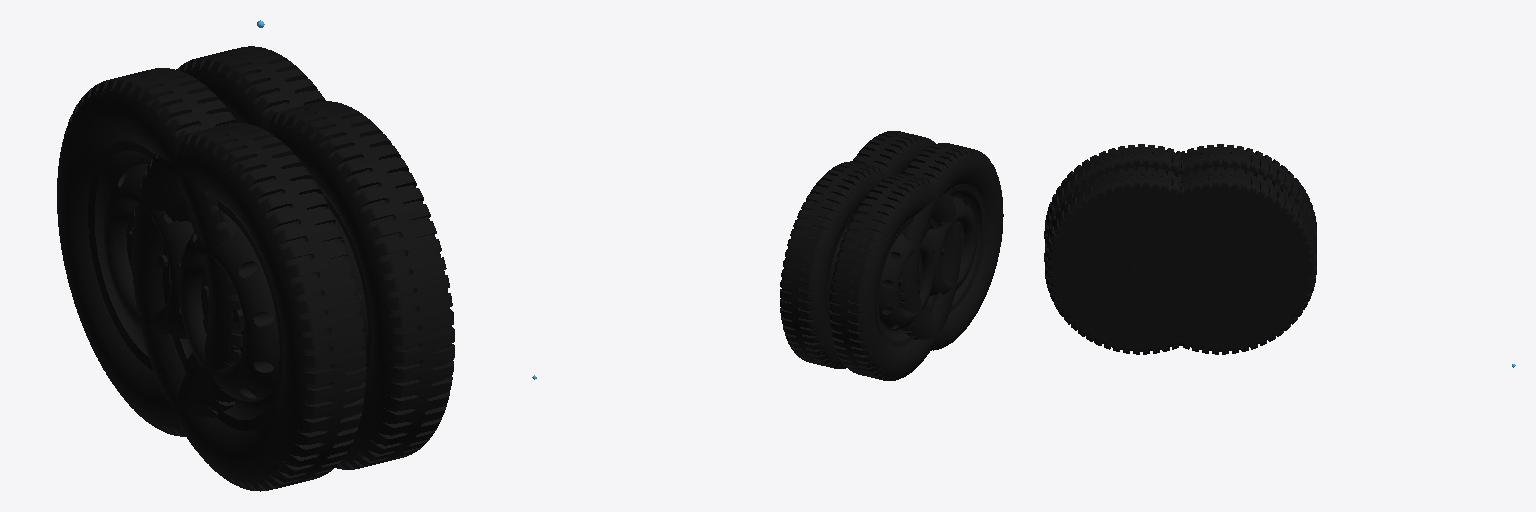
URDF robot description (pioneer3at):
<?xml version="1.0" ?>
<!-- =================================================================================== -->
<!-- |    This document was autogenerated by xacro from pioneer3at.urdf.xacro          | -->
<!-- |    EDITING THIS FILE BY HAND IS NOT RECOMMENDED                                 | -->
<!-- =================================================================================== -->
<robot name="pioneer3at" xmlns:controller="http://playerstage.sourceforge.net/gazebo/xmlschema/#controller" xmlns:interface="http://playerstage.sourceforge.net/gazebo/xmlschema/#interface" xmlns:sensor="http://playerstage.sourceforge.net/gazebo/xmlschema/#sensor" xmlns:xacro="http://ros.org/wiki/xacro">
  <!-- Chassis -->
  <link name="base_link">
    <!--  For pointers on inertial and gazebo-related parameters see
		       * http://wiki.ros.org/urdf/Tutorials/Adding%20Physical%20and%20Collision%20Properties%20to%20a%20URDF%20Model
                       * http://answers.gazebosim.org/question/4372/the-inertia-matrix-explained/
		       * http://gazebosim.org/tutorials?tut=inertia&cat=build_robot, and 
                       * http://gazebosim.org/tutorials/?tut=ros_urdf
                       * http://en.wikipedia.org/wiki/List_of_moment_of_inertia_tensors  
                -->
    <inertial>
      <mass value="26.5"/>
      <!-- P3AT 18.6kg plus three batteries @ 2.4kg each  minus four wheels @ 1.4 kg ea and top plate @ 0.1 kg-->
      <origin xyz=" -0.1 0 0.177"/>
      <inertia ixx="0.3338" ixy="0.0" ixz="0.0" iyy="0.4783" iyz="0.0" izz="0.3338"/>
    </inertial>
    <visual>
      <origin rpy="0 0 0" xyz="0 0 0.177"/>
      <geometry name="pioneer_geom">
        <mesh filename="package://amr_robots_description/meshes/p3at_meshes/chassis.stl"/>
      </geometry>
      <material name="ChassisRed">
        <color rgba="0.851 0.0 0.0 1.0"/>
      </material>
    </visual>
    <collision>
      <origin rpy="0 0 0" xyz="0 0 0.177"/>
      <geometry>
        <mesh filename="package://amr_robots_description/meshes/p3at_meshes/chassis.stl"/>
      </geometry>
    </collision>
  </link>
  <link name="hardener">
    <inertial>
      <mass value="4"/>
      <origin xyz="0 0 0"/>
      <inertia ixx="0.3338" ixy="0.0" ixz="0.0" iyy="0.4783" iyz="0.0" izz="0.3338"/>
    </inertial>
    <collision>
      <origin rpy="0 0 0" xyz="0 0 0"/>
      <geometry>
        <box size="0.05 0.05 0.01"/>
      </geometry>
    </collision>
  </link>
  <joint name="hardener_joint" type="fixed">
    <origin rpy="0 0 0" xyz="0.16 0 0.074"/>
    <parent link="base_link"/>
    <child link="hardener"/>
  </joint>
  <gazebo reference="base_link">
    <material value="Gazebo/Red"/>
  </gazebo>
  <!-- Top -->
  <link name="top_plate">
    <inertial>
      <mass value="0.1"/>
      <origin xyz="-0.025 0 -0.223"/>
      <inertia ixx="1.0" ixy="0.0" ixz="0.0" iyy="1.0" iyz="0.0" izz="1.0"/>
    </inertial>
    <visual>
      <origin rpy="0 0 0" xyz="0 0 0"/>
      <geometry name="pioneer_geom">
        <mesh filename="package://amr_robots_description/meshes/p3at_meshes/top.stl"/>
      </geometry>
      <material name="TopBlack">
        <color rgba="0.038 0.038 0.038 1.0"/>
      </material>
    </visual>
  </link>
  <gazebo reference="top_plate">
    <material>Gazebo/Black</material>
  </gazebo>
  <joint name="base_top_joint" type="fixed">
    <origin rpy="0 0 0" xyz="0.003 0 0.274"/>
    <parent link="base_link"/>
    <child link="top_plate"/>
  </joint>
  <!-- Front + Back Sonar -->
  <link name="front_sonar">
    <inertial>
      <mass value="0.1"/>
      <origin xyz="0 0 0"/>
      <inertia ixx="1.0" ixy="0.0" ixz="0.0" iyy="1.0" iyz="0.0" izz="1.0"/>
    </inertial>
    <visual>
      <origin rpy="0 0 0" xyz="0 0 0"/>
      <geometry name="pioneer_geom">
        <mesh filename="package://amr_robots_description/meshes/p3at_meshes/front_sonar.stl"/>
      </geometry>
      <material name="SonarYellow">
        <color rgba="0.715 0.583 0.210 1.0"/>
      </material>
    </visual>
  </link>
  <gazebo reference="front_sonar">
    <material value="Gazebo/Yellow"/>
  </gazebo>
  <joint name="base_front_joint" type="fixed">
    <origin rpy="0 0 0" xyz="0.193 0 0.25"/>
    <parent link="base_link"/>
    <child link="front_sonar"/>
  </joint>
  <link name="back_sonar">
    <inertial>
      <mass value="0.1"/>
      <origin xyz="0 0 0"/>
      <inertia ixx="1.0" ixy="0.0" ixz="0.0" iyy="1.0" iyz="0.0" izz="1.0"/>
    </inertial>
    <visual>
      <origin rpy="0 0 0" xyz="0 0 0"/>
      <geometry name="pioneer_geom">
        <mesh filename="package://amr_robots_description/meshes/p3at_meshes/back_sonar.stl"/>
      </geometry>
      <material name="SonarYellow">
        <color rgba="0.715 0.583 0.210 1.0"/>
      </material>
    </visual>
  </link>
  <gazebo reference="back_sonar">
    <material value="Gazebo/Yellow"/>
  </gazebo>
  <joint name="base_back_joint" type="fixed">
    <origin rpy="0 0 0" xyz="-0.187 0 0.247"/>
    <parent link="base_link"/>
    <child link="back_sonar"/>
  </joint>
  <!-- Front Axles + Wheels + Hubcaps -->
  <link name="p3at_front_left_axle">
    <inertial>
      <mass value="0.1"/>
      <origin xyz="0 0 0"/>
      <inertia ixx="1.0" ixy="0.0" ixz="0.0" iyy="1.0" iyz="0.0" izz="1.0"/>
    </inertial>
    <visual>
      <origin rpy="0 0 0" xyz="0 0 0"/>
      <geometry name="pioneer_geom">
        <mesh filename="package://amr_robots_description/meshes/p3at_meshes/axle.stl"/>
      </geometry>
      <material name="AxleGrey">
        <color rgba="0.5 0.5 0.5 1"/>
      </material>
    </visual>
  </link>
  <gazebo reference="p3at_front_left_axle">
    <material value="Gazebo/Grey"/>
  </gazebo>
  <joint name="base_front_left_axle_joint" type="fixed">
    <origin rpy="0 0 0" xyz="0.135 0.156 0.111"/>
    <parent link="base_link"/>
    <child link="p3at_front_left_axle"/>
  </joint>
  <link name="p3at_front_left_hub">
    <inertial>
      <mass value="0.1"/>
      <origin xyz="0 0 0"/>
      <inertia ixx="1.0" ixy="0.0" ixz="0.0" iyy="1.0" iyz="0.0" izz="1.0"/>
    </inertial>
    <visual>
      <origin rpy="0 0 0" xyz="0 0 0"/>
      <geometry name="pioneer_geom">
        <mesh filename="package://amr_robots_description/meshes/p3at_meshes/left_hubcap.stl"/>
      </geometry>
      <material name="HubcapYellow">
        <color rgba="1.0 0.811 0.151 1.0"/>
      </material>
    </visual>
  </link>
  <gazebo reference="p3at_front_left_hub">
    <material value="Gazebo/Yellow"/>
  </gazebo>
  <joint name="base_front_left_hub_joint" type="fixed">
    <origin rpy="0 0 0" xyz="0 0.041 0"/>
    <parent link="p3at_front_left_axle"/>
    <child link="p3at_front_left_hub"/>
  </joint>
  <link name="p3at_front_left_wheel">
    <inertial>
      <mass value="1.2"/>
      <!-- 1.4 kg - axle 0.1 kg - hub 0.1 kg -->
      <origin xyz="0 0 0"/>
      <inertia ixx="0.012411765597" ixy="0" ixz="0" iyy="0.015218160428" iyz="0" izz="0.011763977943"/>
    </inertial>
    <visual>
      <origin rpy="0 0 0" xyz="0 0 0"/>
      <geometry name="pioneer_geom">
        <mesh filename="package://amr_robots_description/meshes/p3at_meshes/wheel.stl"/>
      </geometry>
      <material name="WheelBlack">
        <color rgba="0.117 0.117 0.117 1"/>
      </material>
    </visual>
    <collision>
      <origin rpy="-1.57079635 0 0" xyz="0 0 0"/>
      <geometry>
        <!--mesh filename="package://amr_robots_description/meshes/p3at_meshes/wheel.stl"/-->
        <cylinder length="0.075" radius="0.111"/>
      </geometry>
    </collision>
  </link>
  <gazebo reference="p3at_front_left_wheel">
    <material value="Gazebo/Black"/>
  </gazebo>
  <joint name="p3at_front_left_wheel_joint" type="continuous">
    <axis xyz="0 1 0"/>
    <anchor xyz="0 0 0"/>
    <limit effort="100" velocity="100"/>
    <joint_properties damping="0.7"/>
    <origin rpy="0 0 0" xyz="0 0 0"/>
    <parent link="p3at_front_left_hub"/>
    <child link="p3at_front_left_wheel"/>
  </joint>
  <!-- Back Axles + Wheels + Hubcaps -->
  <link name="p3at_back_left_axle">
    <inertial>
      <mass value="0.1"/>
      <origin xyz="0 0 0"/>
      <inertia ixx="1.0" ixy="0.0" ixz="0.0" iyy="1.0" iyz="0.0" izz="1.0"/>
    </inertial>
    <visual>
      <origin rpy="0 0 0" xyz="0 0 0"/>
      <geometry name="pioneer_geom">
        <mesh filename="package://amr_robots_description/meshes/p3at_meshes/axle.stl"/>
      </geometry>
      <material name="AxleGrey">
        <color rgba="0.5 0.5 0.5 1"/>
      </material>
    </visual>
    <collision>
      <origin rpy="0 0 0" xyz="0 0 0"/>
      <geometry>
        <mesh filename="package://amr_robots_description/meshes/p3at_meshes/axle.stl"/>
      </geometry>
    </collision>
  </link>
  <gazebo reference="p3at_back_left_axle">
    <material value="Gazebo/Grey"/>
  </gazebo>
  <joint name="p3at_back_left_axle_joint" type="fixed">
    <origin rpy="0 0 0" xyz="-0.134 0.156 0.111"/>
    <parent link="base_link"/>
    <child link="p3at_back_left_axle"/>
  </joint>
  <link name="p3at_back_left_hub">
    <inertial>
      <mass value="0.1"/>
      <origin xyz="0 0 0"/>
      <inertia ixx="1.0" ixy="0.0" ixz="0.0" iyy="1.0" iyz="0.0" izz="1.0"/>
    </inertial>
    <visual>
      <origin rpy="0 0 0" xyz="0 0 0"/>
      <geometry name="pioneer_geom">
        <mesh filename="package://amr_robots_description/meshes/p3at_meshes/left_hubcap.stl"/>
      </geometry>
      <material name="HubcapYellow"/>
    </visual>
    <collision>
      <origin rpy="0 0 0" xyz="0 0 0"/>
      <geometry>
        <mesh filename="package://amr_robots_description/meshes/p3at_meshes/left_hubcap.stl"/>
      </geometry>
    </collision>
  </link>
  <gazebo reference="p3at_back_left_hub">
    <material value="Gazebo/Yellow"/>
  </gazebo>
  <joint name="p3at_back_left_hub_joint" type="fixed">
    <origin rpy="0 0 0" xyz="-0 0.041 0"/>
    <parent link="p3at_back_left_axle"/>
    <child link="p3at_back_left_hub"/>
  </joint>
  <link name="p3at_back_left_wheel">
    <inertial>
      <mass value="1.2"/>
      <origin xyz="0 0 0"/>
      <inertia ixx="0.012411765597" ixy="0" ixz="0" iyy="0.015218160428" iyz="0" izz="0.011763977943"/>
    </inertial>
    <visual>
      <origin rpy="0 0 0" xyz="0 0 0"/>
      <geometry name="pioneer_geom">
        <mesh filename="package://amr_robots_description/meshes/p3at_meshes/wheel.stl"/>
      </geometry>
      <material name="WheelBlack"/>
    </visual>
    <collision>
      <origin rpy="-1.57079635 0 0" xyz="0 0 0"/>
      <geometry>
        <!--mesh filename="package://amr_robots_description/meshes/p3at_meshes/wheel.stl"/-->
        <cylinder length="0.075" radius="0.111"/>
      </geometry>
    </collision>
  </link>
  <gazebo reference="p3at_back_left_wheel">
    <material value="Gazebo/Black"/>
  </gazebo>
  <joint name="p3at_back_left_wheel_joint" type="continuous">
    <axis xyz="0 1 0"/>
    <anchor xyz="0 0 0"/>
    <limit effort="100" velocity="100"/>
    <joint_properties damping="0.7"/>
    <origin rpy="0 0 0" xyz="0 0 0"/>
    <parent link="p3at_back_left_hub"/>
    <child link="p3at_back_left_wheel"/>
  </joint>
  <!-- see http://gazebosim.org/tutorials/?tut=ros_urdf -->
  <gazebo reference="p3at_back_left_wheel">
    <kp>1000000.0</kp>
    <!-- kp and kd for rubber -->
    <kd>100.0</kd>
    <mu1>2.0</mu1>
    <!-- was 10 -->
    <mu2>1.0</mu2>
    <!-- how to get these into <surface><friction><ode>... ?
        slip1 0.5 /slip1 
         slip2 0 /slip2 
      -->
    <!-- fdir1 0 1 0 /fdir1 -->
    <!-- see http://github.com/MobileRobots/amr-ros-config/issues/6 -->
    <maxVel>1.0</maxVel>
    <minDepth>0.005</minDepth>
    <material value="Gazebo/Black"/>
  </gazebo>
  <gazebo reference="p3at_front_left_wheel">
    <kp>1000000.0</kp>
    <!-- kp and kd for rubber -->
    <kd>100.0</kd>
    <mu1>2.0</mu1>
    <!-- was 10 -->
    <mu2>1.0</mu2>
    <!-- how to get these into <surface><friction><ode>... ?
        slip1 0.5 /slip1 
         slip2 0 /slip2 
      -->
    <!-- fdir1 0 1 0 /fdir1 -->
    <!-- see http://github.com/MobileRobots/amr-ros-config/issues/6 -->
    <maxVel>1.0</maxVel>
    <minDepth>0.005</minDepth>
    <material value="Gazebo/Black"/>
  </gazebo>
  <!-- Front Axles + Wheels + Hubcaps -->
  <link name="p3at_front_right_axle">
    <inertial>
      <mass value="0.1"/>
      <origin xyz="0 0 0"/>
      <inertia ixx="1.0" ixy="0.0" ixz="0.0" iyy="1.0" iyz="0.0" izz="1.0"/>
    </inertial>
    <visual>
      <origin rpy="0 0 0" xyz="0 0 0"/>
      <geometry name="pioneer_geom">
        <mesh filename="package://amr_robots_description/meshes/p3at_meshes/axle.stl"/>
      </geometry>
      <material name="AxleGrey">
        <color rgba="0.5 0.5 0.5 1"/>
      </material>
    </visual>
  </link>
  <gazebo reference="p3at_front_right_axle">
    <material value="Gazebo/Grey"/>
  </gazebo>
  <joint name="base_front_right_axle_joint" type="fixed">
    <origin rpy="0 0 0" xyz="0.135 -0.156 0.111"/>
    <parent link="base_link"/>
    <child link="p3at_front_right_axle"/>
  </joint>
  <link name="p3at_front_right_hub">
    <inertial>
      <mass value="0.1"/>
      <origin xyz="0 0 0"/>
      <inertia ixx="1.0" ixy="0.0" ixz="0.0" iyy="1.0" iyz="0.0" izz="1.0"/>
    </inertial>
    <visual>
      <origin rpy="0 0 0" xyz="0 0 0"/>
      <geometry name="pioneer_geom">
        <mesh filename="package://amr_robots_description/meshes/p3at_meshes/right_hubcap.stl"/>
      </geometry>
      <material name="HubcapYellow">
        <color rgba="1.0 0.811 0.151 1.0"/>
      </material>
    </visual>
  </link>
  <gazebo reference="p3at_front_right_hub">
    <material value="Gazebo/Yellow"/>
  </gazebo>
  <joint name="base_front_right_hub_joint" type="fixed">
    <origin rpy="0 0 0" xyz="0 -0.041 0"/>
    <parent link="p3at_front_right_axle"/>
    <child link="p3at_front_right_hub"/>
  </joint>
  <link name="p3at_front_right_wheel">
    <inertial>
      <mass value="1.2"/>
      <!-- 1.4 kg - axle 0.1 kg - hub 0.1 kg -->
      <origin xyz="0 0 0"/>
      <inertia ixx="0.012411765597" ixy="0" ixz="0" iyy="0.015218160428" iyz="0" izz="0.011763977943"/>
    </inertial>
    <visual>
      <origin rpy="0 0 0" xyz="0 0 0"/>
      <geometry name="pioneer_geom">
        <mesh filename="package://amr_robots_description/meshes/p3at_meshes/wheel.stl"/>
      </geometry>
      <material name="WheelBlack">
        <color rgba="0.117 0.117 0.117 1"/>
      </material>
    </visual>
    <collision>
      <origin rpy="-1.57079635 0 0" xyz="0 0 0"/>
      <geometry>
        <!--mesh filename="package://amr_robots_description/meshes/p3at_meshes/wheel.stl"/-->
        <cylinder length="0.075" radius="0.111"/>
      </geometry>
    </collision>
  </link>
  <gazebo reference="p3at_front_right_wheel">
    <material value="Gazebo/Black"/>
  </gazebo>
  <joint name="p3at_front_right_wheel_joint" type="continuous">
    <axis xyz="0 1 0"/>
    <anchor xyz="0 0 0"/>
    <limit effort="100" velocity="100"/>
    <joint_properties damping="0.7"/>
    <origin rpy="0 0 0" xyz="0 0 0"/>
    <parent link="p3at_front_right_hub"/>
    <child link="p3at_front_right_wheel"/>
  </joint>
  <!-- Back Axles + Wheels + Hubcaps -->
  <link name="p3at_back_right_axle">
    <inertial>
      <mass value="0.1"/>
      <origin xyz="0 0 0"/>
      <inertia ixx="1.0" ixy="0.0" ixz="0.0" iyy="1.0" iyz="0.0" izz="1.0"/>
    </inertial>
    <visual>
      <origin rpy="0 0 0" xyz="0 0 0"/>
      <geometry name="pioneer_geom">
        <mesh filename="package://amr_robots_description/meshes/p3at_meshes/axle.stl"/>
      </geometry>
      <material name="AxleGrey">
        <color rgba="0.5 0.5 0.5 1"/>
      </material>
    </visual>
    <collision>
      <origin rpy="0 0 0" xyz="0 0 0"/>
      <geometry>
        <mesh filename="package://amr_robots_description/meshes/p3at_meshes/axle.stl"/>
      </geometry>
    </collision>
  </link>
  <gazebo reference="p3at_back_right_axle">
    <material value="Gazebo/Grey"/>
  </gazebo>
  <joint name="p3at_back_right_axle_joint" type="fixed">
    <origin rpy="0 0 0" xyz="-0.134 -0.156 0.111"/>
    <parent link="base_link"/>
    <child link="p3at_back_right_axle"/>
  </joint>
  <link name="p3at_back_right_hub">
    <inertial>
      <mass value="0.1"/>
      <origin xyz="0 0 0"/>
      <inertia ixx="1.0" ixy="0.0" ixz="0.0" iyy="1.0" iyz="0.0" izz="1.0"/>
    </inertial>
    <visual>
      <origin rpy="0 0 0" xyz="0 0 0"/>
      <geometry name="pioneer_geom">
        <mesh filename="package://amr_robots_description/meshes/p3at_meshes/right_hubcap.stl"/>
      </geometry>
      <material name="HubcapYellow"/>
    </visual>
    <collision>
      <origin rpy="0 0 0" xyz="0 0 0"/>
      <geometry>
        <mesh filename="package://amr_robots_description/meshes/p3at_meshes/right_hubcap.stl"/>
      </geometry>
    </collision>
  </link>
  <gazebo reference="p3at_back_right_hub">
    <material value="Gazebo/Yellow"/>
  </gazebo>
  <joint name="p3at_back_right_hub_joint" type="fixed">
    <origin rpy="0 0 0" xyz="-0 -0.041 0"/>
    <parent link="p3at_back_right_axle"/>
    <child link="p3at_back_right_hub"/>
  </joint>
  <link name="p3at_back_right_wheel">
    <inertial>
      <mass value="1.2"/>
      <origin xyz="0 0 0"/>
      <inertia ixx="0.012411765597" ixy="0" ixz="0" iyy="0.015218160428" iyz="0" izz="0.011763977943"/>
    </inertial>
    <visual>
      <origin rpy="0 0 0" xyz="0 0 0"/>
      <geometry name="pioneer_geom">
        <mesh filename="package://amr_robots_description/meshes/p3at_meshes/wheel.stl"/>
      </geometry>
      <material name="WheelBlack"/>
    </visual>
    <collision>
      <origin rpy="-1.57079635 0 0" xyz="0 0 0"/>
      <geometry>
        <!--mesh filename="package://amr_robots_description/meshes/p3at_meshes/wheel.stl"/-->
        <cylinder length="0.075" radius="0.111"/>
      </geometry>
    </collision>
  </link>
  <gazebo reference="p3at_back_right_wheel">
    <material value="Gazebo/Black"/>
  </gazebo>
  <joint name="p3at_back_right_wheel_joint" type="continuous">
    <axis xyz="0 1 0"/>
    <anchor xyz="0 0 0"/>
    <limit effort="100" velocity="100"/>
    <joint_properties damping="0.7"/>
    <origin rpy="0 0 0" xyz="0 0 0"/>
    <parent link="p3at_back_right_hub"/>
    <child link="p3at_back_right_wheel"/>
  </joint>
  <!-- see http://gazebosim.org/tutorials/?tut=ros_urdf -->
  <gazebo reference="p3at_back_right_wheel">
    <kp>1000000.0</kp>
    <!-- kp and kd for rubber -->
    <kd>100.0</kd>
    <mu1>2.0</mu1>
    <!-- was 10 -->
    <mu2>1.0</mu2>
    <!-- how to get these into <surface><friction><ode>... ?
        slip1 0.5 /slip1 
         slip2 0 /slip2 
      -->
    <!-- fdir1 0 1 0 /fdir1 -->
    <!-- see http://github.com/MobileRobots/amr-ros-config/issues/6 -->
    <maxVel>1.0</maxVel>
    <minDepth>0.005</minDepth>
    <material value="Gazebo/Black"/>
  </gazebo>
  <gazebo reference="p3at_front_right_wheel">
    <kp>1000000.0</kp>
    <!-- kp and kd for rubber -->
    <kd>100.0</kd>
    <mu1>2.0</mu1>
    <!-- was 10 -->
    <mu2>1.0</mu2>
    <!-- how to get these into <surface><friction><ode>... ?
        slip1 0.5 /slip1 
         slip2 0 /slip2 
      -->
    <!-- fdir1 0 1 0 /fdir1 -->
    <!-- see http://github.com/MobileRobots/amr-ros-config/issues/6 -->
    <maxVel>1.0</maxVel>
    <minDepth>0.005</minDepth>
    <material value="Gazebo/Black"/>
  </gazebo>
  <link name="dir_point">
    <inertial>
      <mass value="0.1"/>
      <origin xyz="0.1 0 0" rpy="0 0 0"/>
      <inertia ixx="0.3338" ixy="0.0" ixz="0.0" iyy="0.4783" iyz="0.0" izz="0.3338"/>
    </inertial>
    <visual>
      <geometry>
        <sphere radius="0.01"/>
      </geometry>
      <material name="white"/>
    </visual>
  </link>
  <gazebo reference="dir_point">
    <material value="Gazebo/White"/>
  </gazebo>
  <joint name="dir_point_joint" type="prismatic">
    <axis xyz="1 0 0"/>
    <limit effort="0" velocity="0" lower="0" upper="0"/>
    <origin rpy="0 0 0" xyz="0.1 0 0.278"/>
    <parent link="base_link"/>
    <child link="dir_point"/>
  </joint>
  <gazebo>
    <plugin filename="libgazebo_ros_skid_steer_drive.so" name="skid_steer_drive_controller">
      <updateRate>100.0</updateRate>
      <leftFrontJoint>p3at_front_left_wheel_joint</leftFrontJoint>
      <rightFrontJoint>p3at_front_right_wheel_joint</rightFrontJoint>
      <leftRearJoint>p3at_back_left_wheel_joint</leftRearJoint>
      <rightRearJoint>p3at_back_right_wheel_joint</rightRearJoint>
      <wheelSeparation>0.4</wheelSeparation>
      <wheelDiameter>0.215</wheelDiameter>
      <robotBaseFrame>base_link</robotBaseFrame>
      <MaxForce>5.0</MaxForce>
      <torque>200</torque>
      <commandTopic>cmd_vel</commandTopic>
      <odometryTopic>odom</odometryTopic>
      <odometryFrame>odom</odometryFrame>
      <broadcastTF>1</broadcastTF>
    </plugin>
  </gazebo>
</robot>

--- Render facts (derived) ---
The picture shows the robot from 3 angles, left to right: view 1: azimuth 30°, elevation 25°; view 2: azimuth 150°, elevation 25°; view 3: azimuth 270°, elevation 25°; orthographic projection.
Model pioneer3at with 18 links and 17 joints (4 continuous, 1 prismatic, 12 fixed), rooted at base_link, posed every joint at zero.
Visible links, largest first — view 1: p3at_back_right_wheel, p3at_back_left_wheel, p3at_front_right_wheel, p3at_front_left_wheel; view 2: p3at_back_left_wheel, p3at_back_right_wheel, p3at_front_left_wheel, p3at_front_right_wheel; view 3: p3at_front_left_wheel, p3at_front_right_wheel, p3at_back_left_wheel, p3at_back_right_wheel.
Boxes of the visible links, bbox=[...] form: p3at_back_right_wheel: bbox=[132, 123, 366, 491]; p3at_back_left_wheel: bbox=[57, 68, 243, 436]; p3at_front_right_wheel: bbox=[267, 101, 454, 469]; p3at_front_left_wheel: bbox=[176, 46, 325, 130]; p3at_back_left_wheel: bbox=[830, 174, 960, 380]; p3at_back_right_wheel: bbox=[899, 143, 1003, 350]; p3at_front_left_wheel: bbox=[780, 161, 884, 368]; p3at_front_right_wheel: bbox=[853, 131, 935, 177]; p3at_front_left_wheel: bbox=[1128, 167, 1316, 354]; p3at_front_right_wheel: bbox=[1044, 167, 1232, 354]; p3at_back_left_wheel: bbox=[1175, 144, 1316, 244]; p3at_back_right_wheel: bbox=[1044, 144, 1183, 242].
Bounding box of the posed robot: 1.23 × 2.35 × 0.967 m (x, y, z).
4 mesh visuals loaded from 8 distinct referenced files (1 binary STL); not drawn: 12 (reference not matched to a file when rendering).